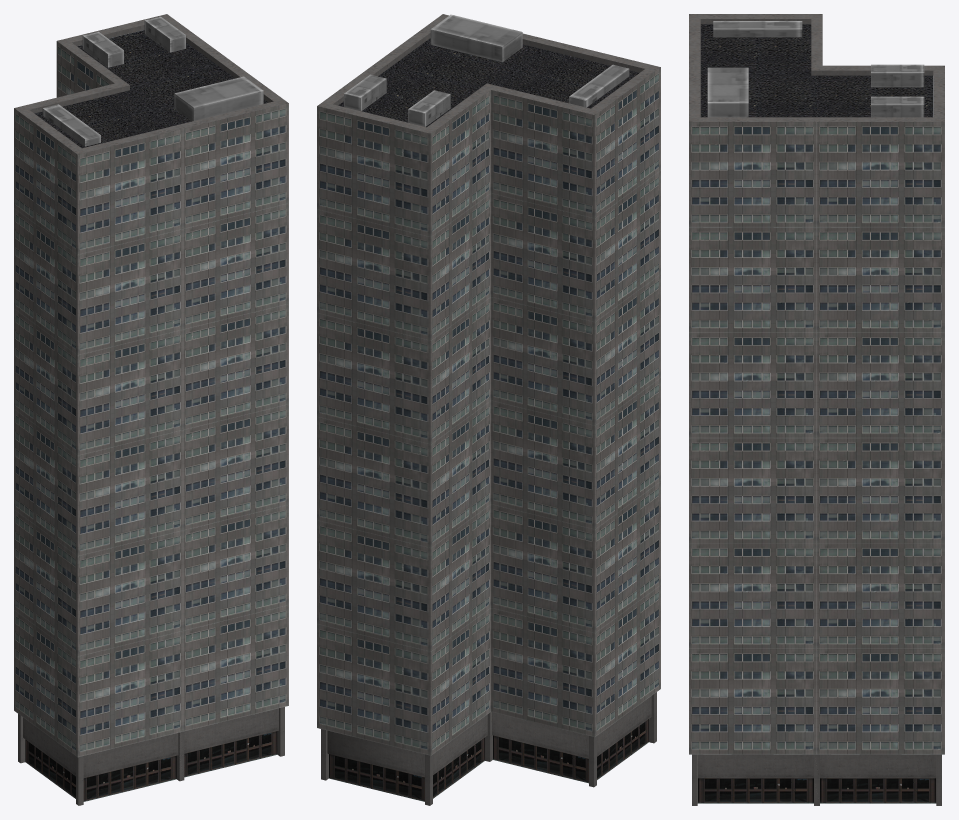
Rendered from si_building_18.fbx.
The picture shows the model from 3 angles, left to right: view 1: azimuth 30°, elevation 25°; view 2: azimuth 150°, elevation 25°; view 3: azimuth 270°, elevation 25°; orthographic projection. The views are drawn at different scales.
Parts seen in each view (by area): view 1: si_building_18; view 2: si_building_18; view 3: si_building_18.
Boxes of the visible parts, left/top/right/bottom form: si_building_18: left=14, top=14, right=288, bottom=805; si_building_18: left=317, top=14, right=660, bottom=805; si_building_18: left=689, top=14, right=944, bottom=805.
Bounding box in the file's own units: 88 × 264 × 88.
Materials: 1 (1 with a texture image).
